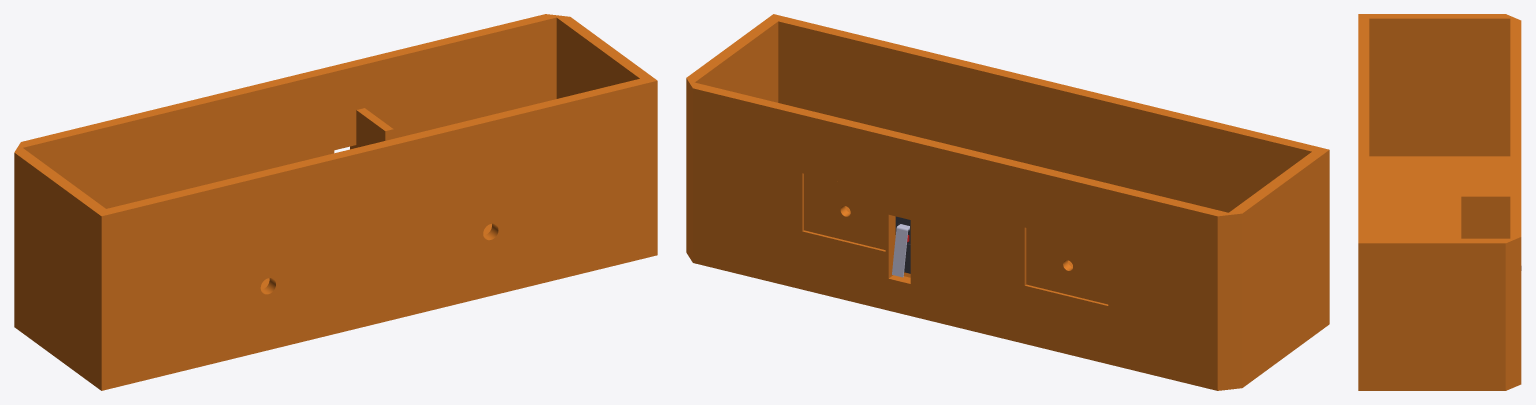
The model's file is nose.glb.
The picture shows the model from 3 angles, left to right: view 1: azimuth 30°, elevation 25°; view 2: azimuth 150°, elevation 25°; view 3: azimuth 270°, elevation 25°; orthographic projection. The views are drawn at different scales.
Parts seen in each view (by area): view 1: nose; view 2: nose (×2); view 3: nose.
Part boxes in pixels (bbox=[...]): nose: bbox=[14, 14, 657, 390]; nose (×2): bbox=[686, 14, 1329, 390]; nose: bbox=[1358, 14, 1521, 390].
Bounding box in the file's own units: 0.2 × 0.06 × 0.0602.
